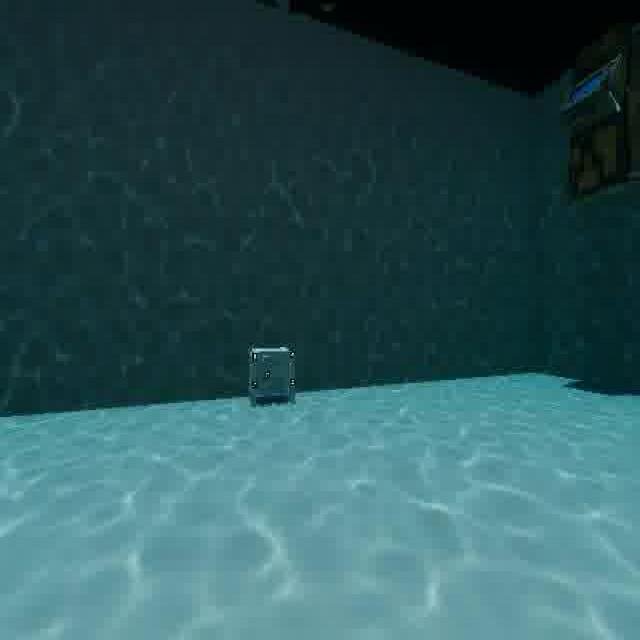Docking Station: (244, 339, 300, 414)
